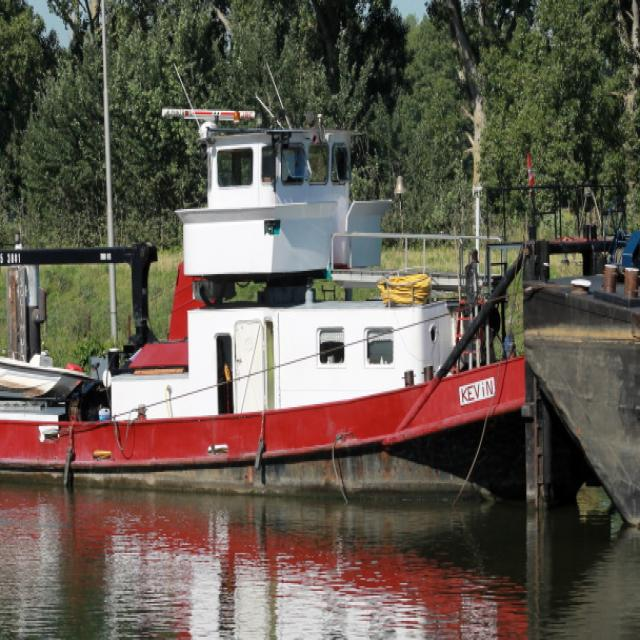tugboat: (1, 103, 640, 523)
